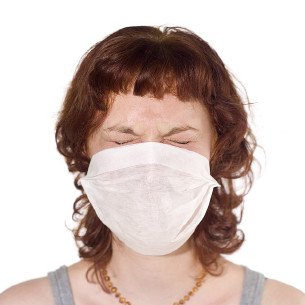face_mask: (83, 97, 216, 254)
